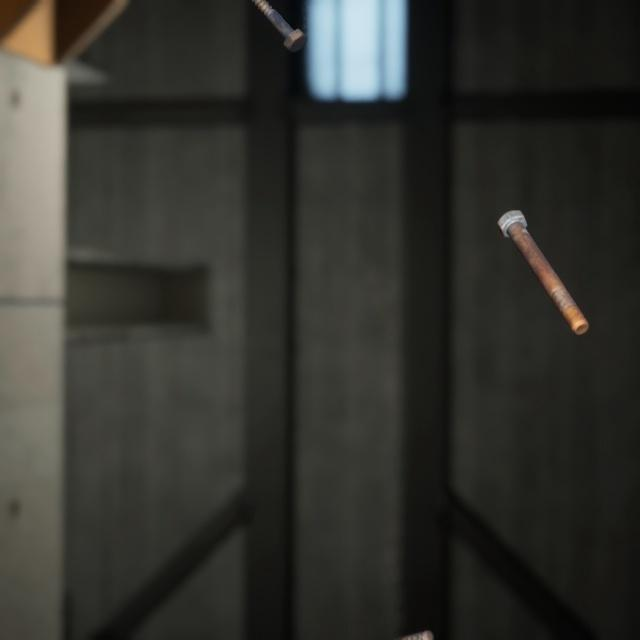bolt: (492, 189, 593, 321), (343, 601, 438, 640), (253, 0, 312, 48)
